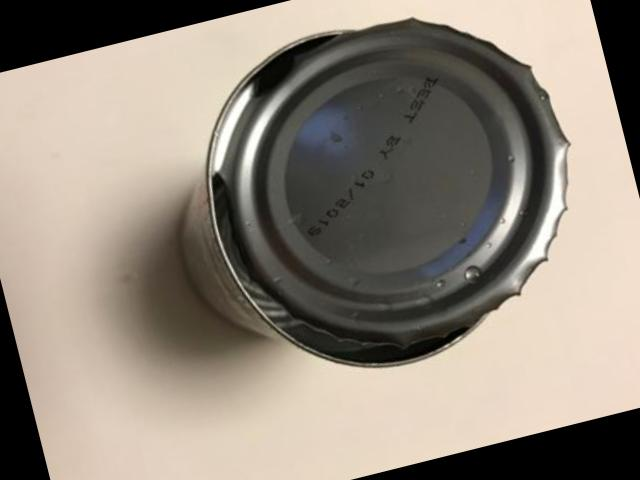metal: (185, 21, 570, 368)
